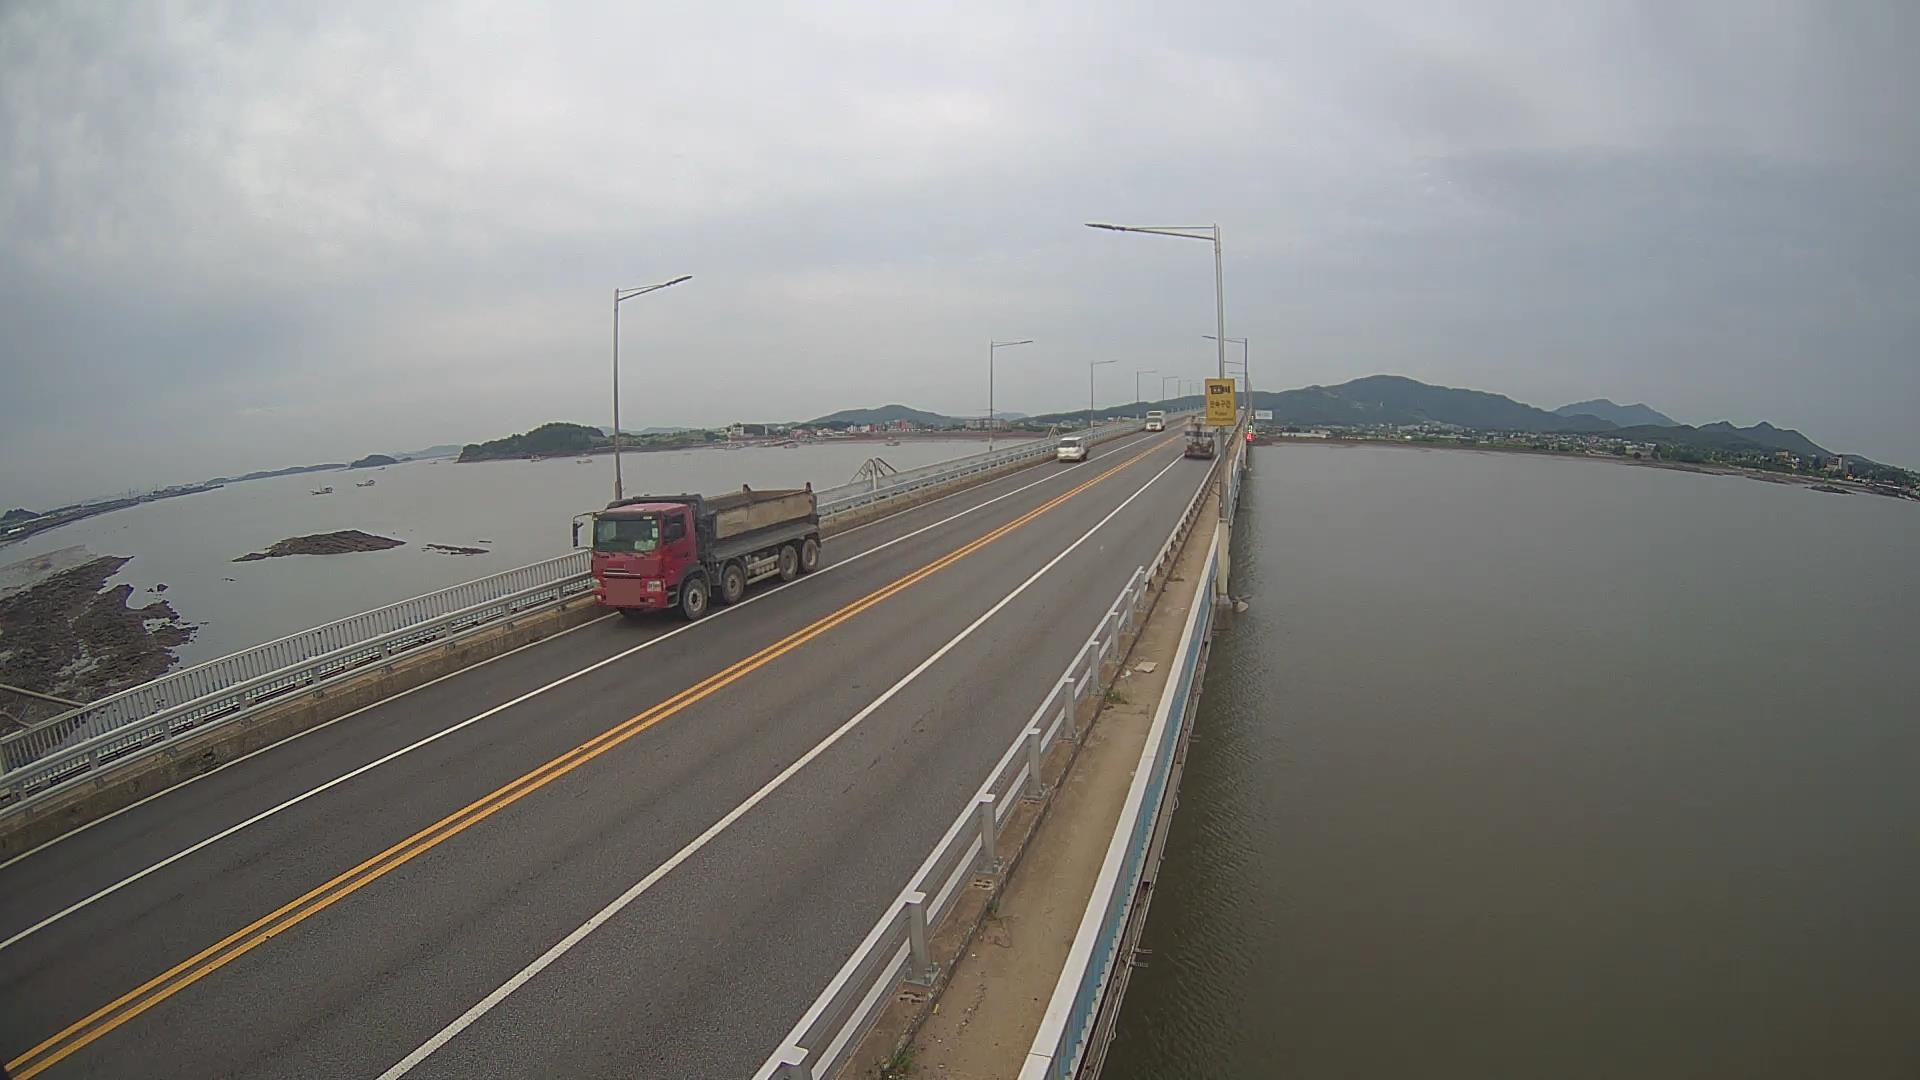정상차량: (574, 483, 822, 621)
